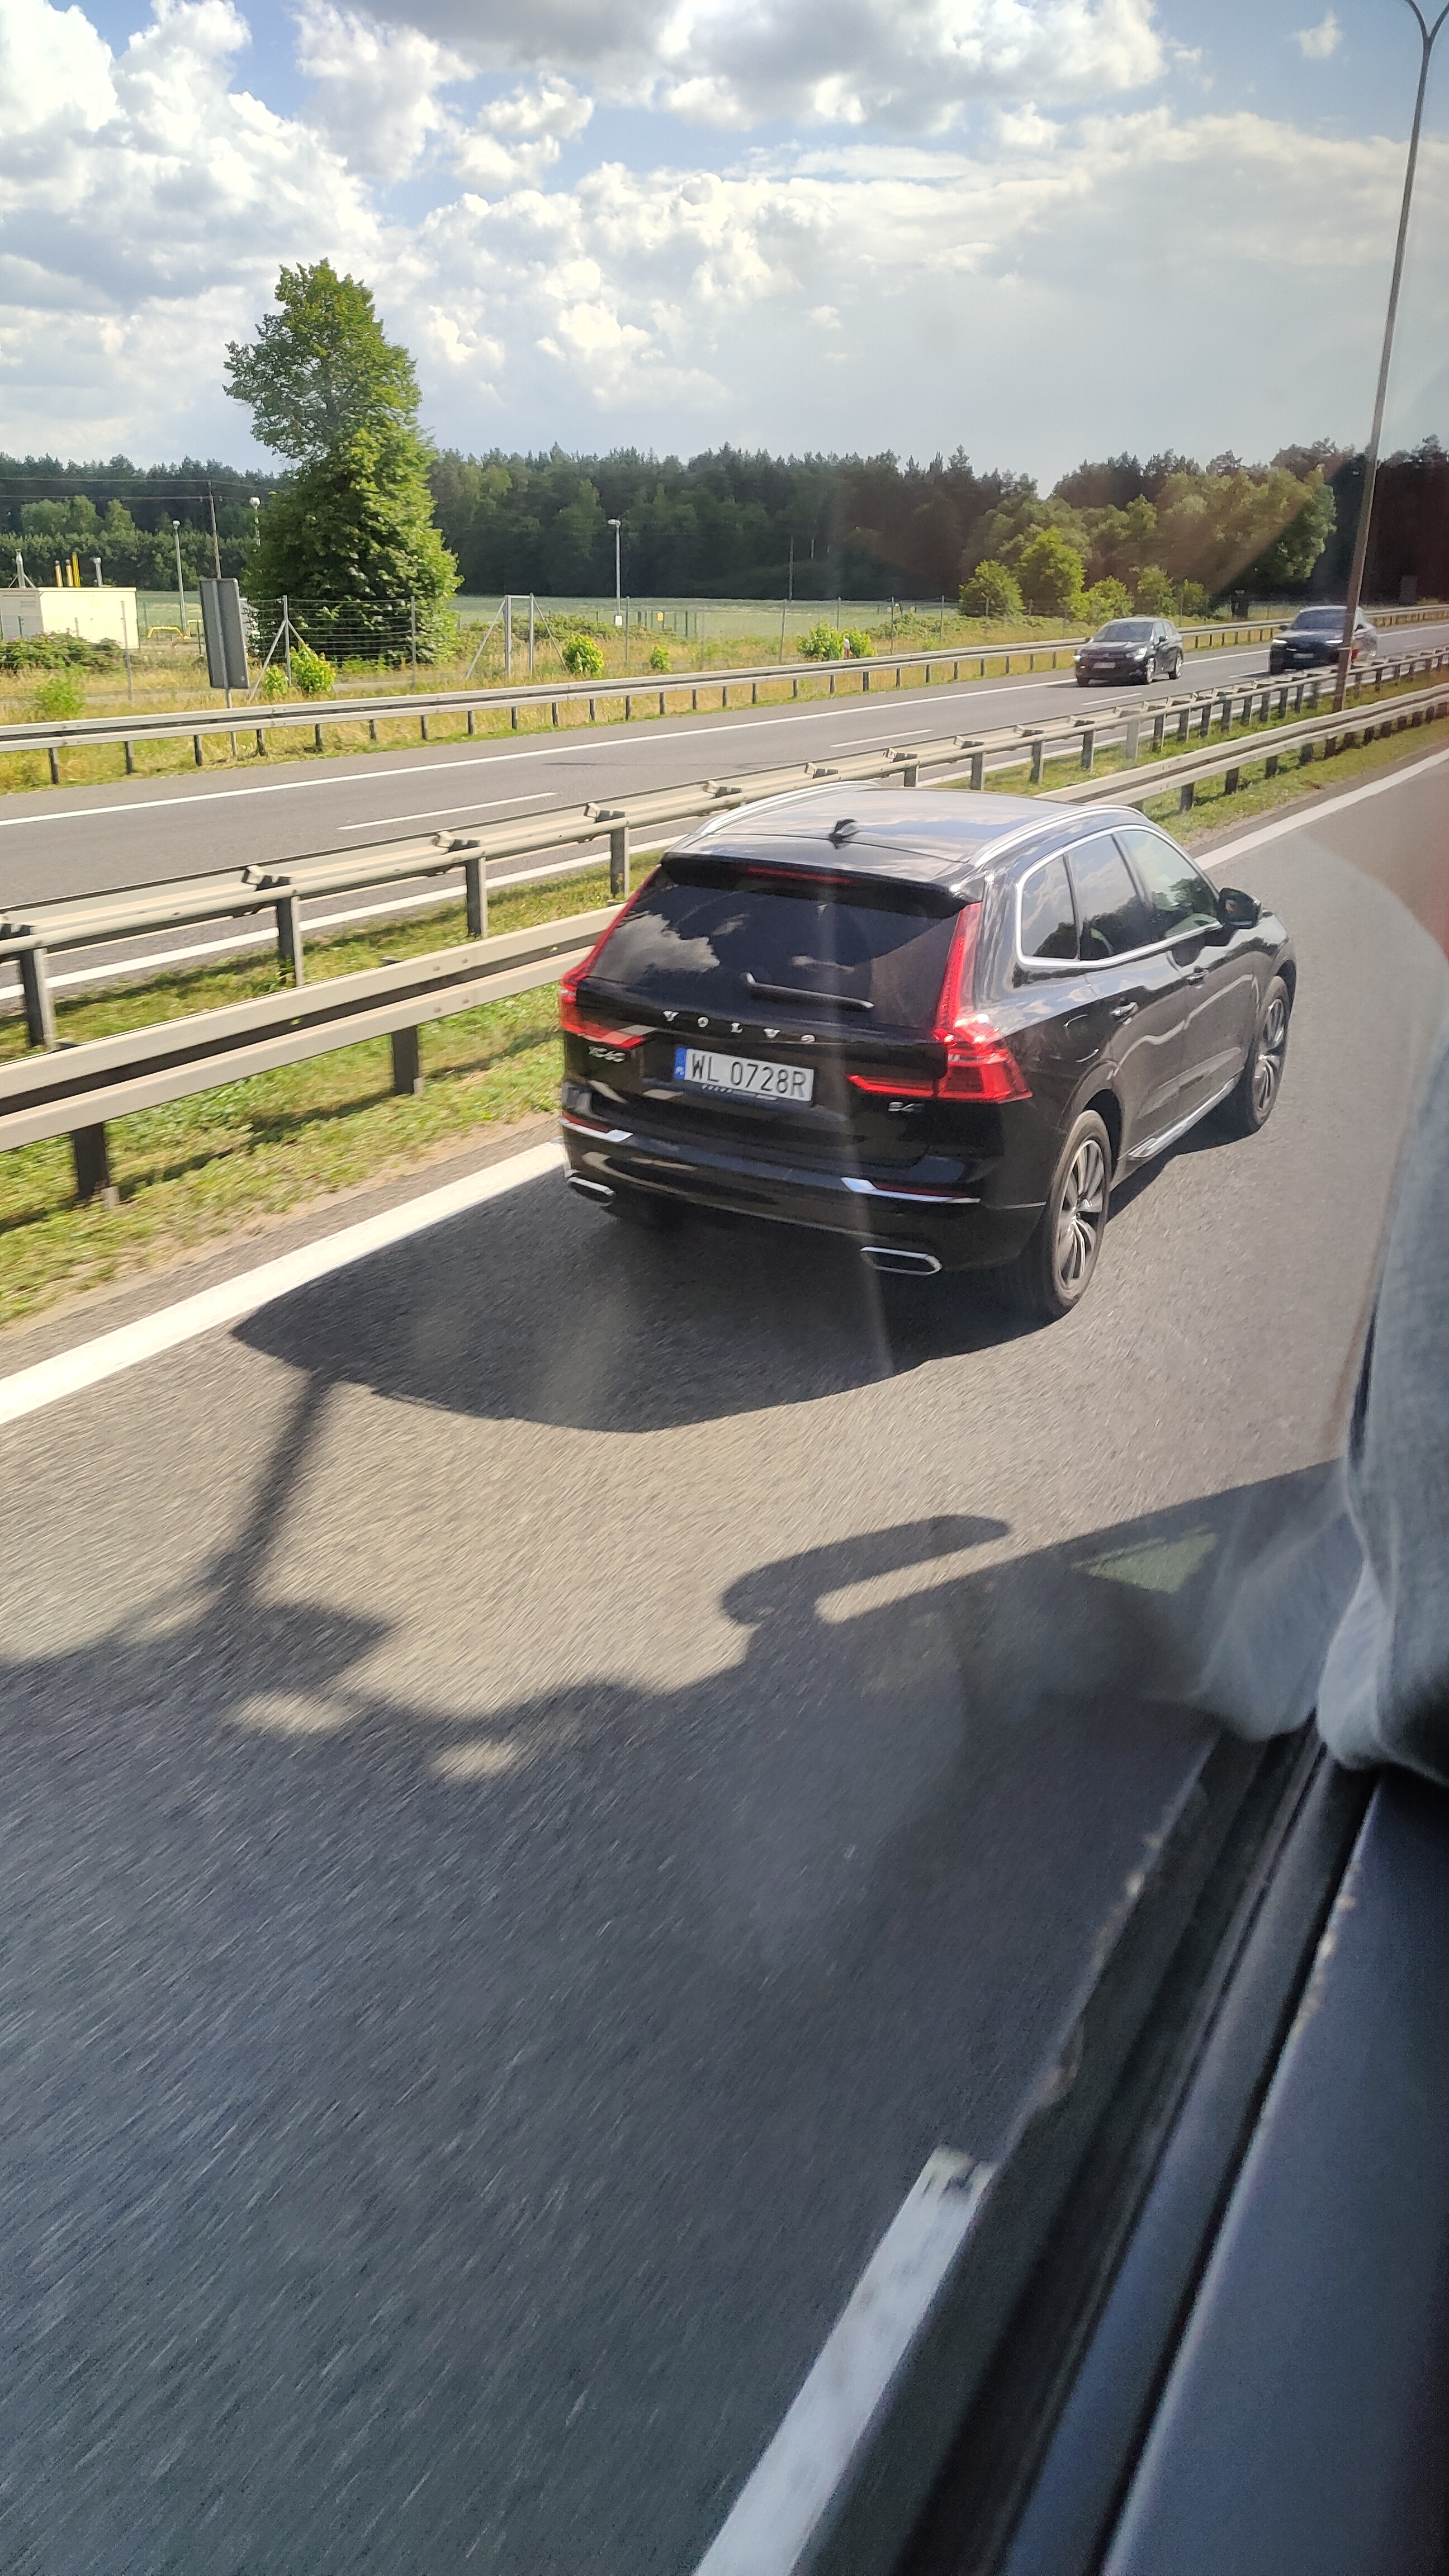number_plate: (673, 1046, 818, 1113)
